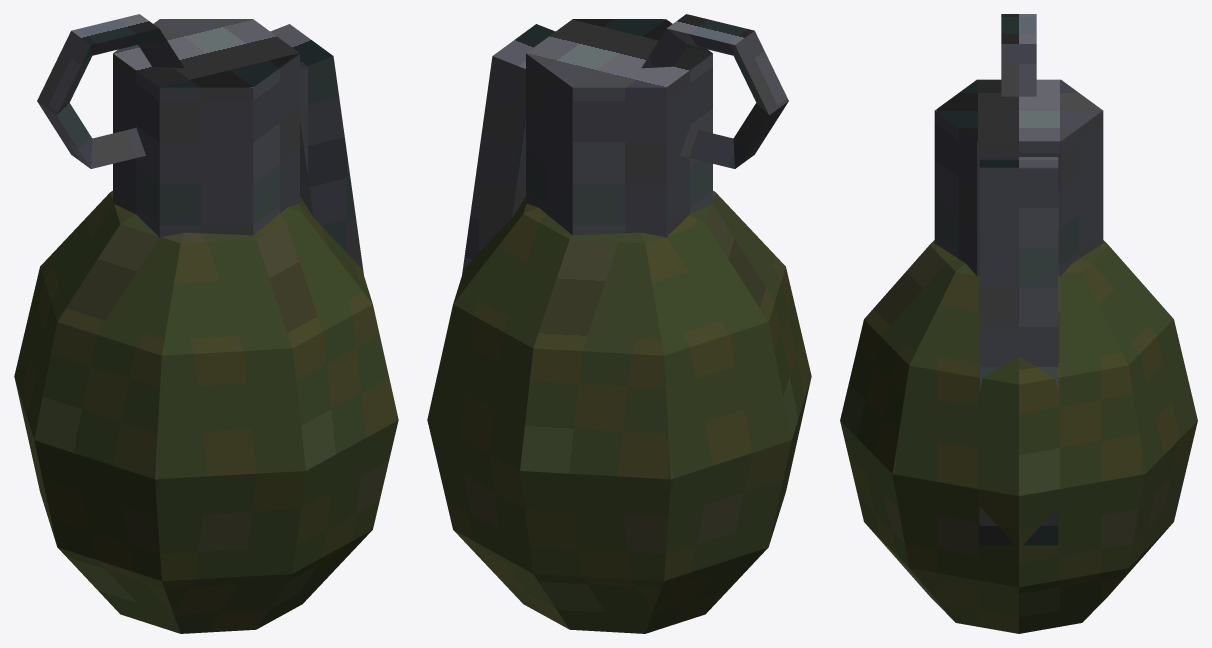
The model's file is prop_grenade.glb.
The picture shows the model from 3 angles, left to right: view 1: azimuth 30°, elevation 25°; view 2: azimuth 150°, elevation 25°; view 3: azimuth 270°, elevation 25°; orthographic projection. The views are drawn at different scales.
Visible parts, largest first — view 1: prop_grenade_mesh; view 2: prop_grenade_mesh; view 3: prop_grenade_mesh.
Boxes of the visible parts, left/top/right/bottom form: prop_grenade_mesh: left=14, top=14, right=398, bottom=633; prop_grenade_mesh: left=427, top=14, right=811, bottom=633; prop_grenade_mesh: left=840, top=14, right=1197, bottom=633.
Size of the model in its own units: 0.068 by 0.1162 by 0.068.
2 materials, 2 textured.
